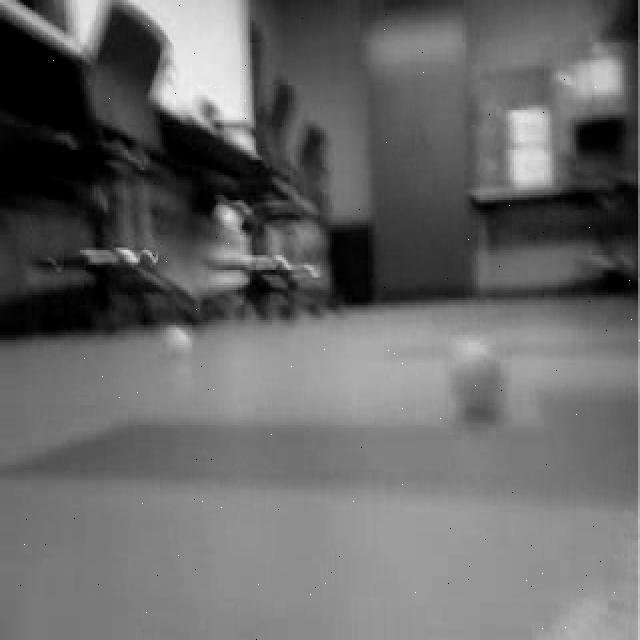ping-pong-ball: (442, 331, 510, 422), (162, 322, 195, 371)
